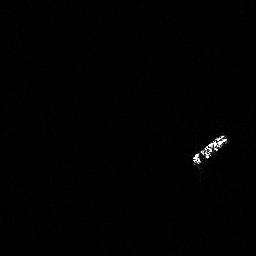ship: (188, 131, 231, 168)
